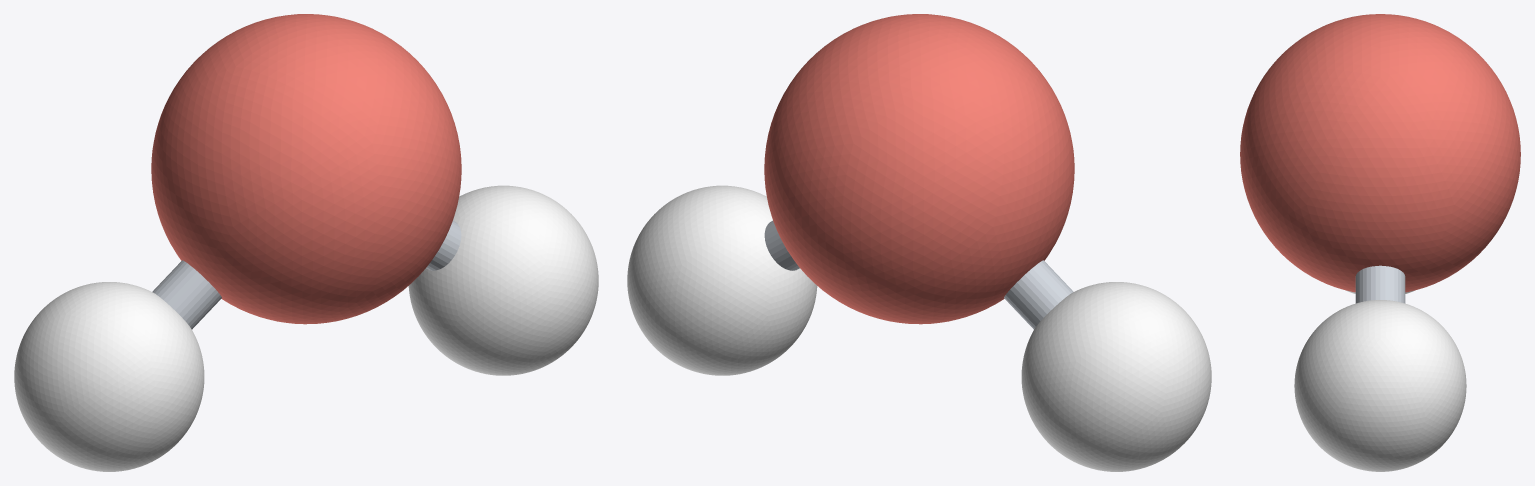
The model's file is water-molecule.glb.
3 views of the same model, side by side, from view 1: azimuth 30°, elevation 25°; view 2: azimuth 150°, elevation 25°; view 3: azimuth 270°, elevation 25° (orthographic). The views are drawn at different scales.
Visible parts, largest first — view 1: Oxygen, Hydrogen1, Hydrogen2, Bond1, Bond2; view 2: Oxygen, Hydrogen1, Hydrogen2, Bond1, Bond2; view 3: Oxygen, Hydrogen2, Bond2.
Boxes of the visible parts, bbox=[...] form: Oxygen: bbox=[151, 14, 461, 324]; Hydrogen1: bbox=[14, 282, 204, 471]; Hydrogen2: bbox=[408, 185, 598, 375]; Bond1: bbox=[152, 260, 221, 329]; Bond2: bbox=[426, 220, 461, 270]; Oxygen: bbox=[764, 14, 1074, 324]; Hydrogen1: bbox=[1021, 282, 1211, 471]; Hydrogen2: bbox=[627, 185, 817, 375]; Bond1: bbox=[1004, 260, 1073, 329]; Bond2: bbox=[764, 220, 799, 270]; Oxygen: bbox=[1240, 14, 1520, 292]; Hydrogen2: bbox=[1294, 300, 1466, 471]; Bond2: bbox=[1355, 265, 1405, 303].
Bounding box in the file's own units: 2.58 × 1.7 × 1.24.
